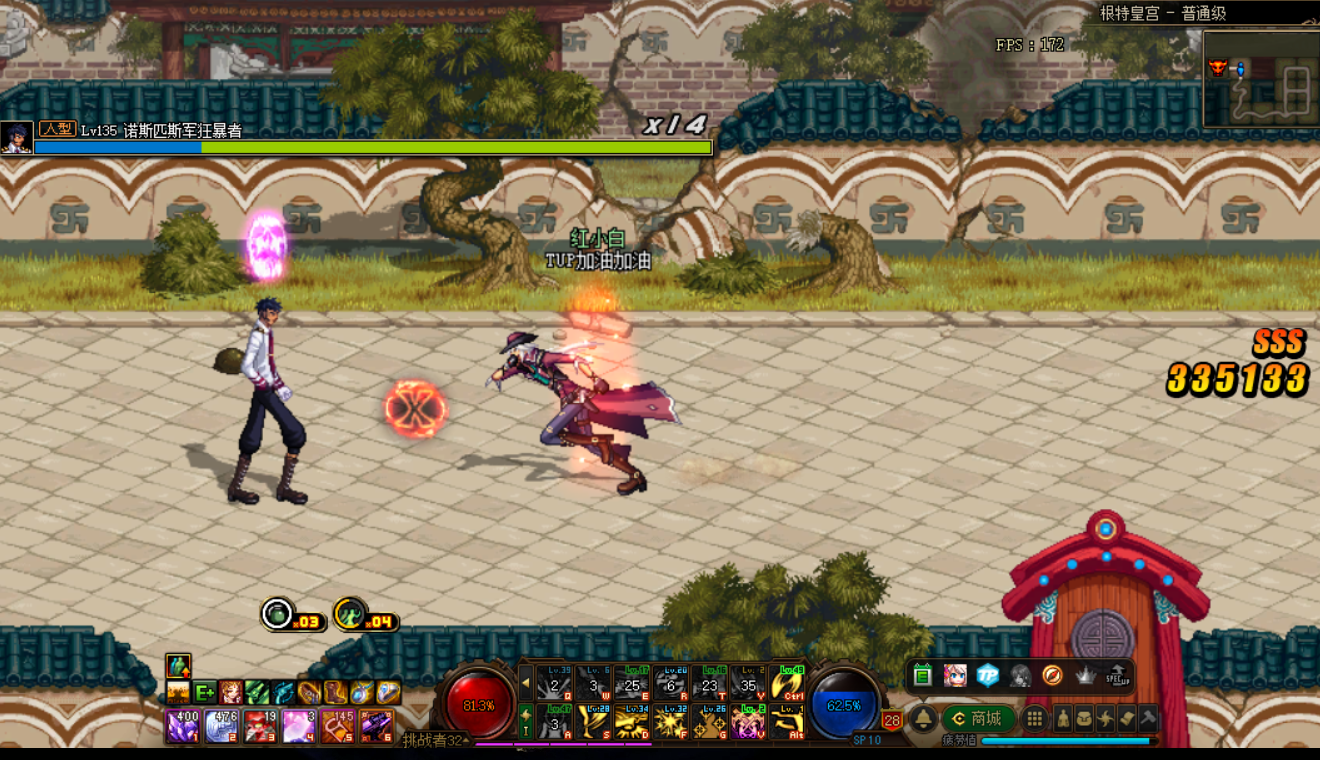monster: (221, 296, 325, 514)
warrior: (486, 318, 684, 510)
